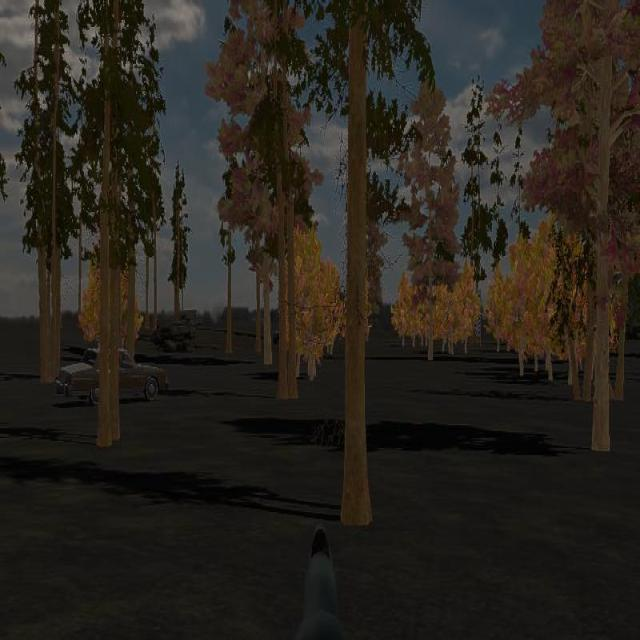car: (55, 343, 168, 406)
